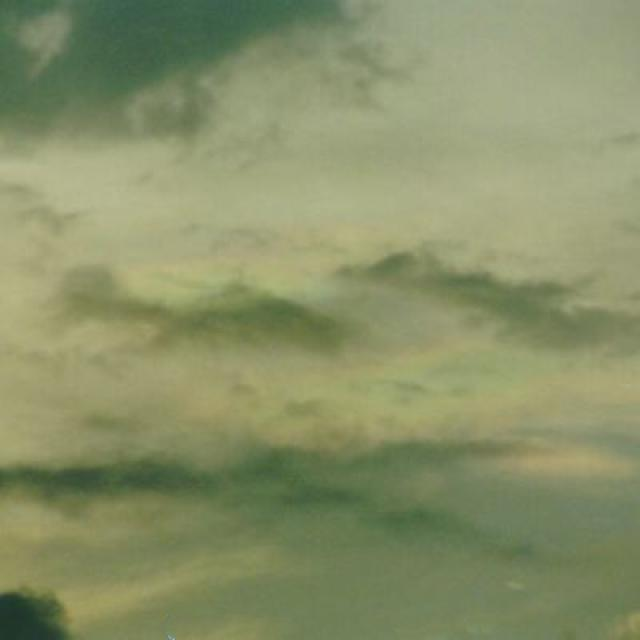Cs: (1, 24, 640, 500)
